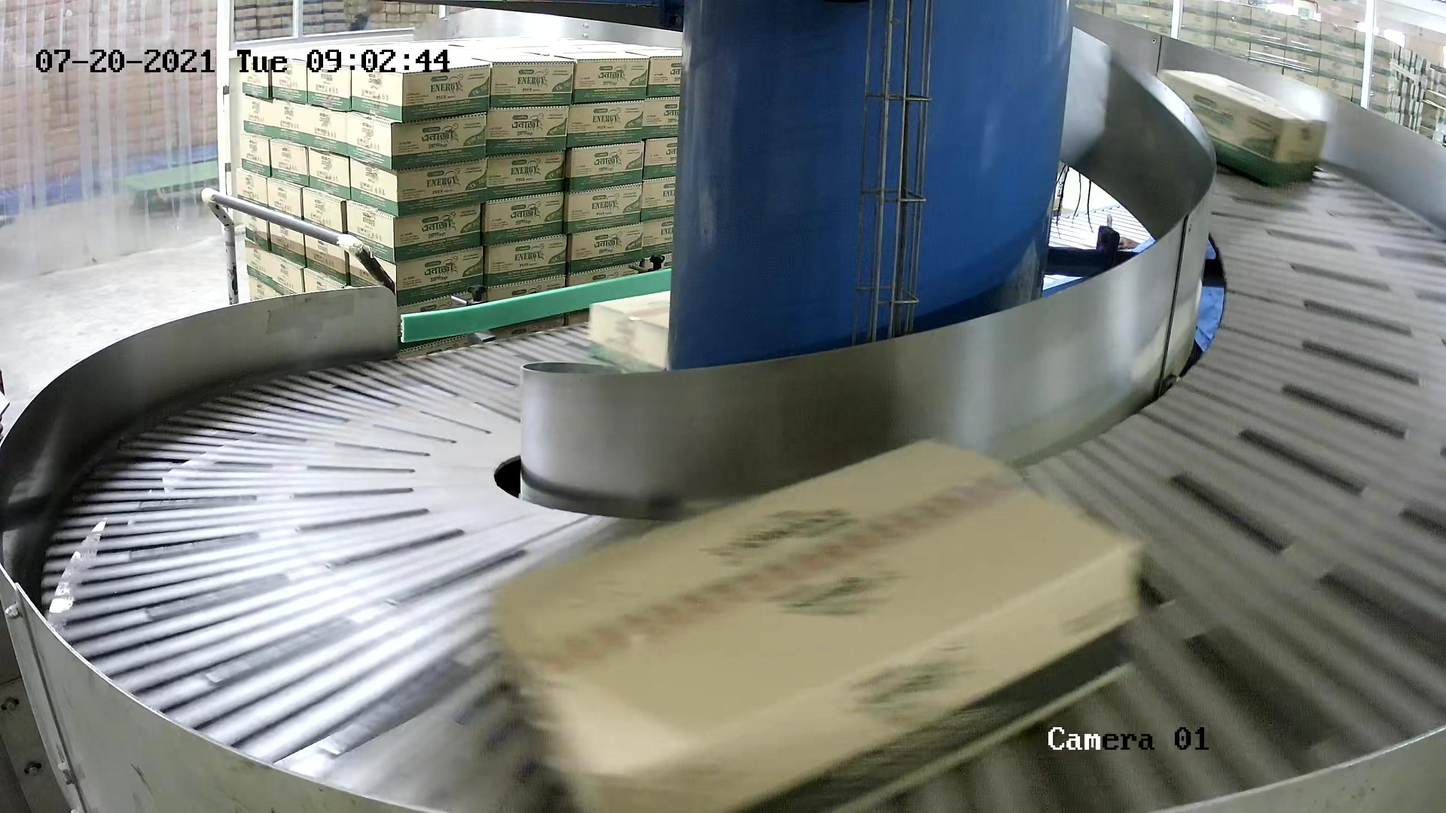Box: (483, 434, 1145, 813), (1156, 68, 1329, 186), (587, 290, 671, 373)
